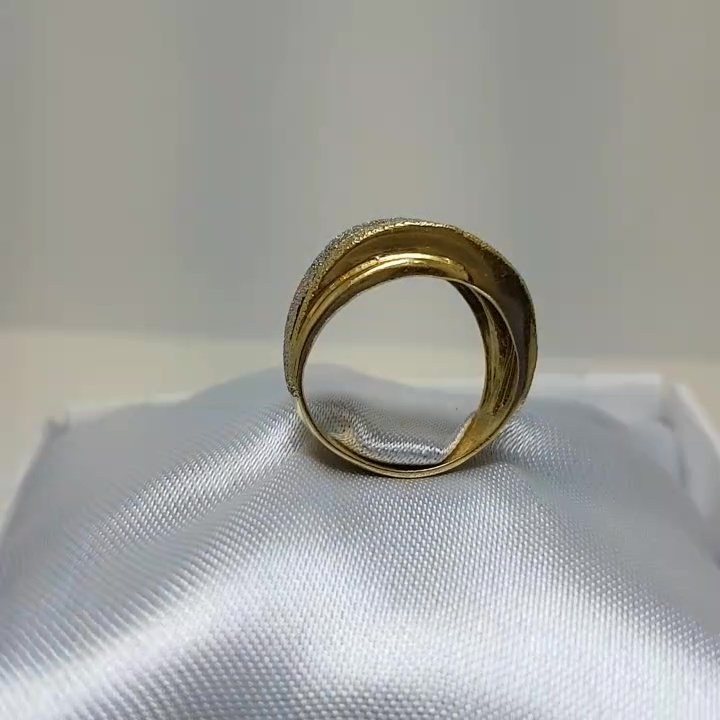Ring 5: (260, 211, 548, 494)
